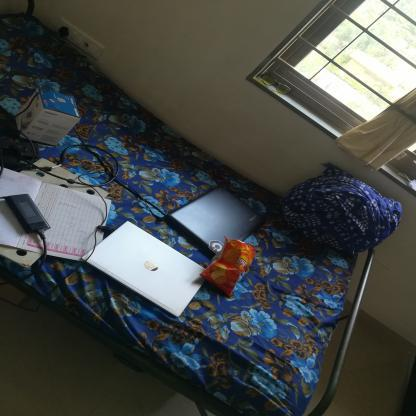hot_and_sweet: (203, 239, 257, 307)
